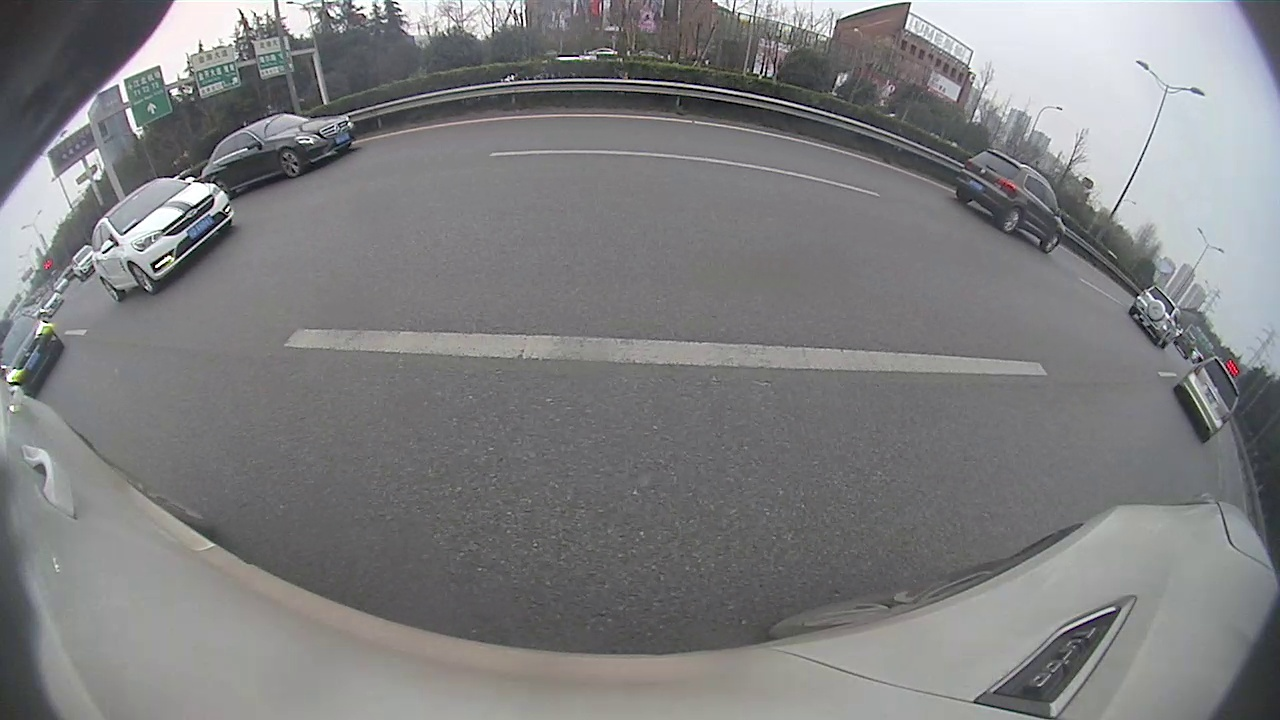car: (90, 171, 236, 305), (953, 137, 1065, 258), (201, 112, 355, 193), (1172, 359, 1238, 443), (2, 319, 64, 401), (1128, 276, 1184, 349)
front: (128, 260, 160, 296), (276, 148, 303, 179), (1038, 231, 1062, 255)
rear: (98, 275, 127, 303), (999, 207, 1022, 235)
